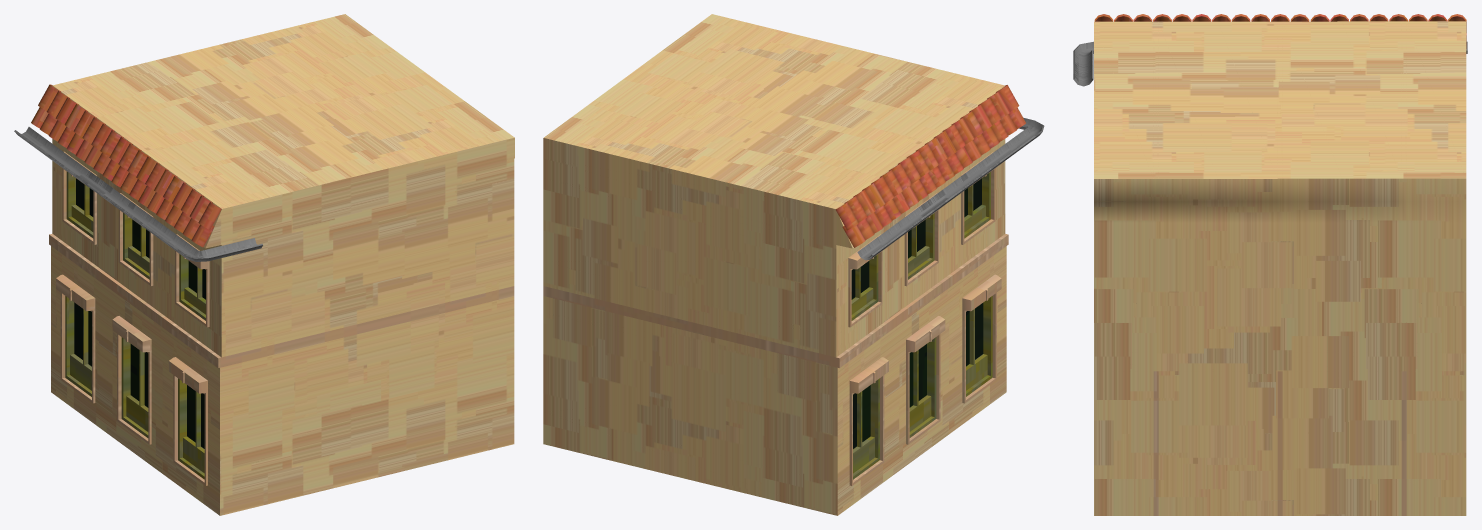
File: Building_01.fbx
3 views of the same model, side by side, from view 1: azimuth 30°, elevation 25°; view 2: azimuth 150°, elevation 25°; view 3: azimuth 270°, elevation 25° (orthographic). The views are drawn at different scales.
Parts seen in each view (by area): view 1: Building_01; view 2: Building_01; view 3: Building_01.
Boxes of the visible parts, x1,y1,x2,y2 form: Building_01: (14, 14, 514, 515); Building_01: (543, 14, 1044, 515); Building_01: (1073, 14, 1467, 515).
Size of the model in its own units: 1130 by 1013 by 1059.
Materials: 6 (6 with a texture image).
